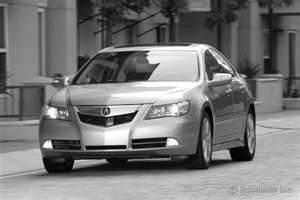car: (36, 40, 261, 174)
